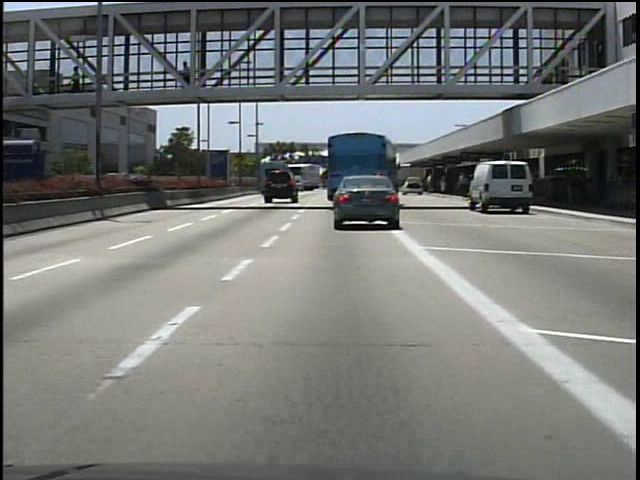person: (564, 166, 586, 209), (179, 59, 197, 98), (71, 63, 88, 94), (458, 169, 471, 198)
